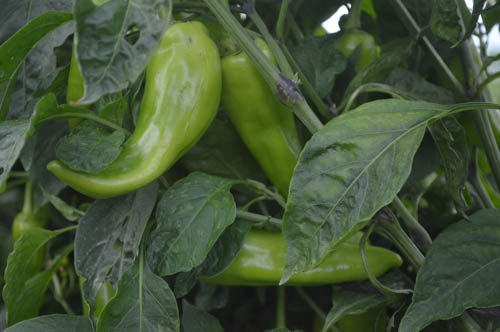ChiliPepper: (43, 23, 220, 196), (203, 230, 404, 284), (226, 44, 296, 196)
